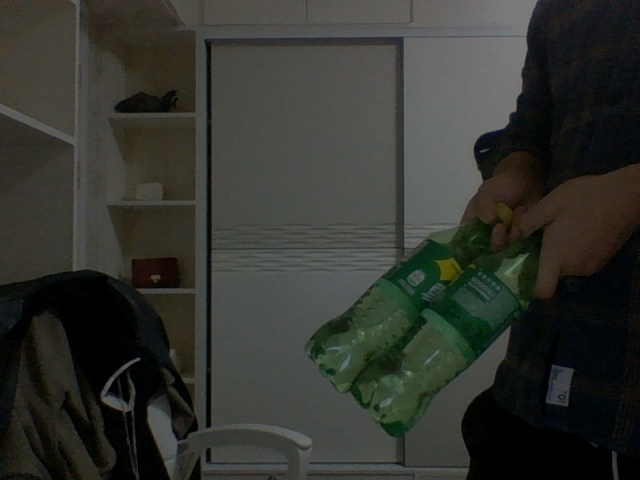Sprite: (304, 206, 514, 395), (352, 237, 540, 437)
